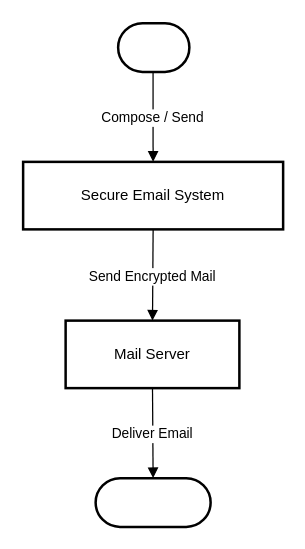
Some shapes in this 305 by 549 pixel diagram are drawn without their labels. The box of each missing label's shape, as (x1, y1, x2, y2) in pixels:
Recipient: (94, 476, 211, 528)
User: (116, 21, 190, 72)
